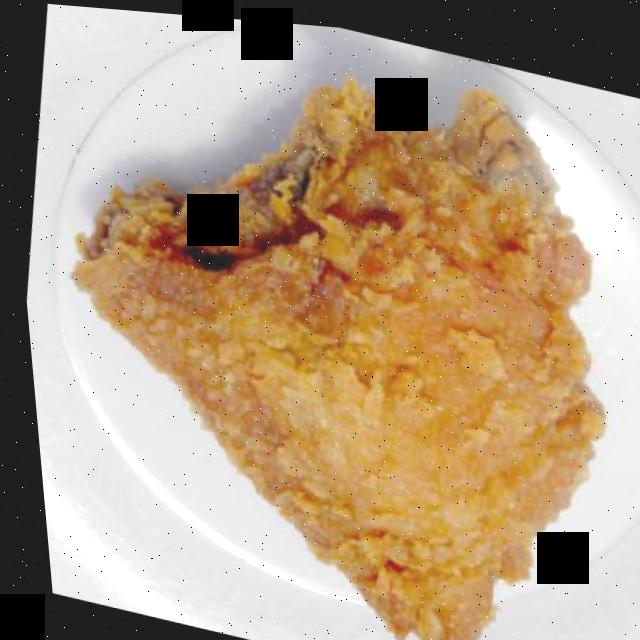Frango: (48, 85, 640, 640)
